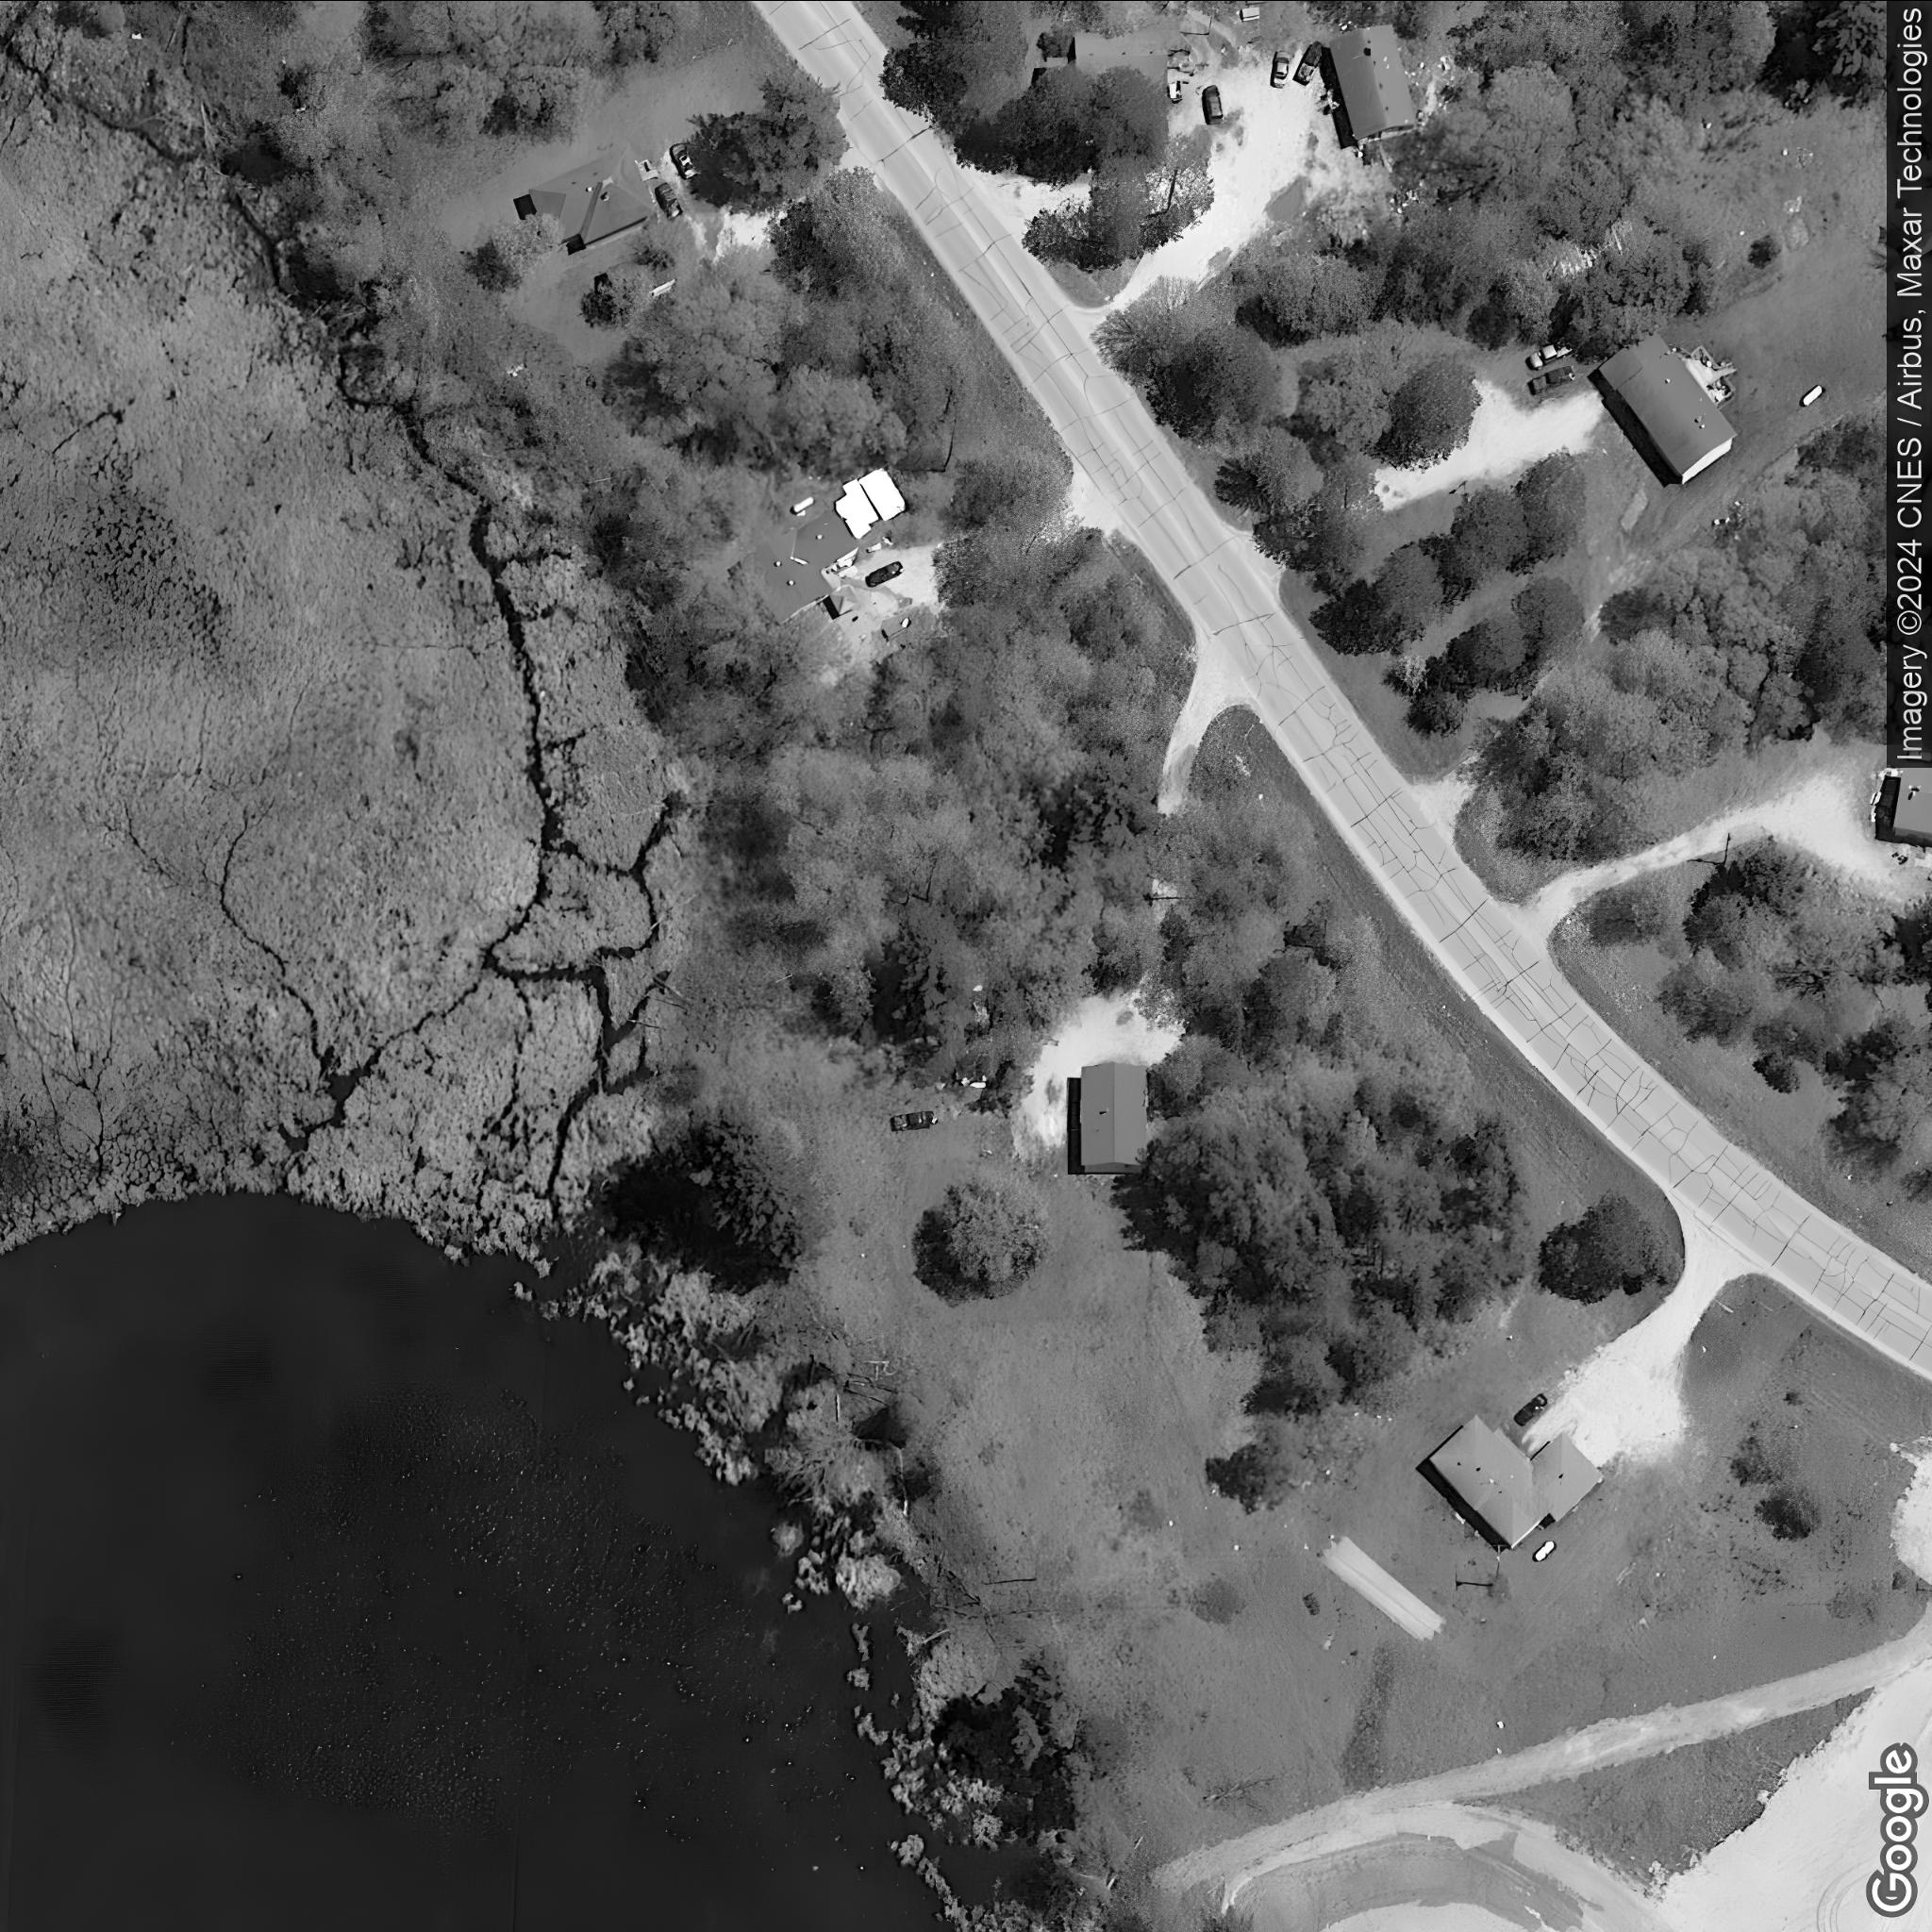House: (1426, 1410, 1606, 1548), (1598, 329, 1739, 487), (525, 140, 658, 248), (740, 510, 860, 626), (1329, 21, 1417, 147), (1079, 1060, 1148, 1173), (1072, 30, 1171, 85), (1893, 766, 1932, 840)
Propane: (1529, 1534, 1560, 1566), (1796, 380, 1829, 410), (786, 494, 817, 518)
